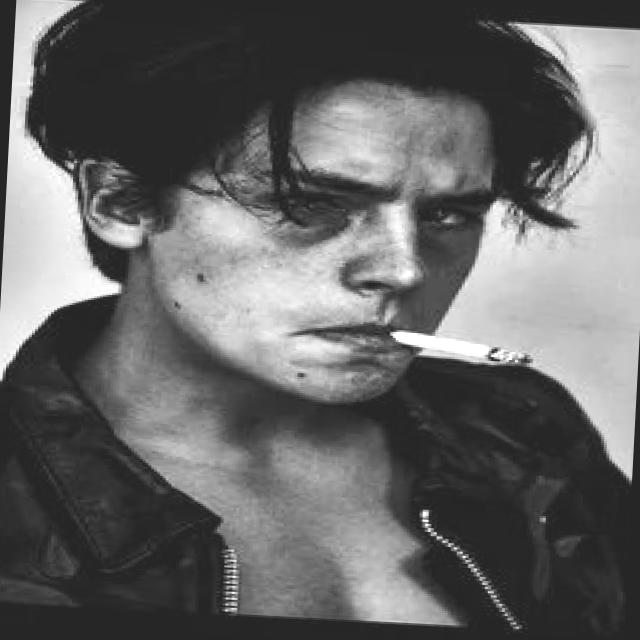cigarette: (370, 327, 534, 367)
